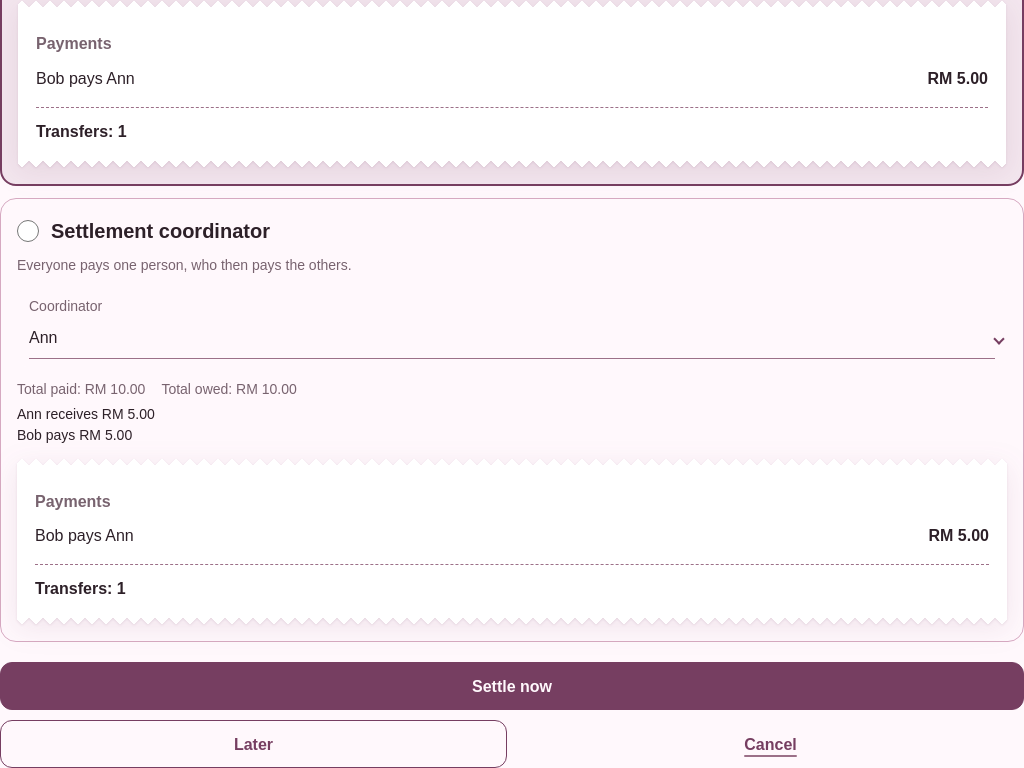
Test: SettlementRoute › preview › maps stale_revision to a message and reloads the preview
(page scrolled)
Click the button "Settle now" at (512, 686), box [0, 662, 1023, 710]
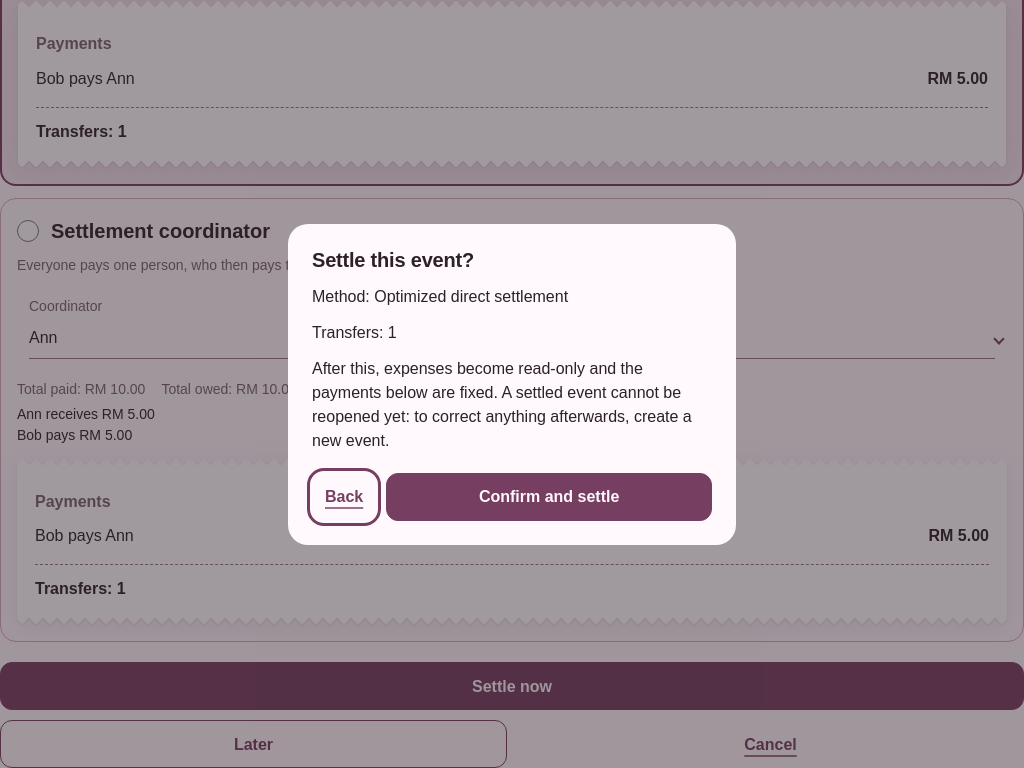
Click the button "Confirm and settle" at (549, 496), box [386, 472, 712, 520]
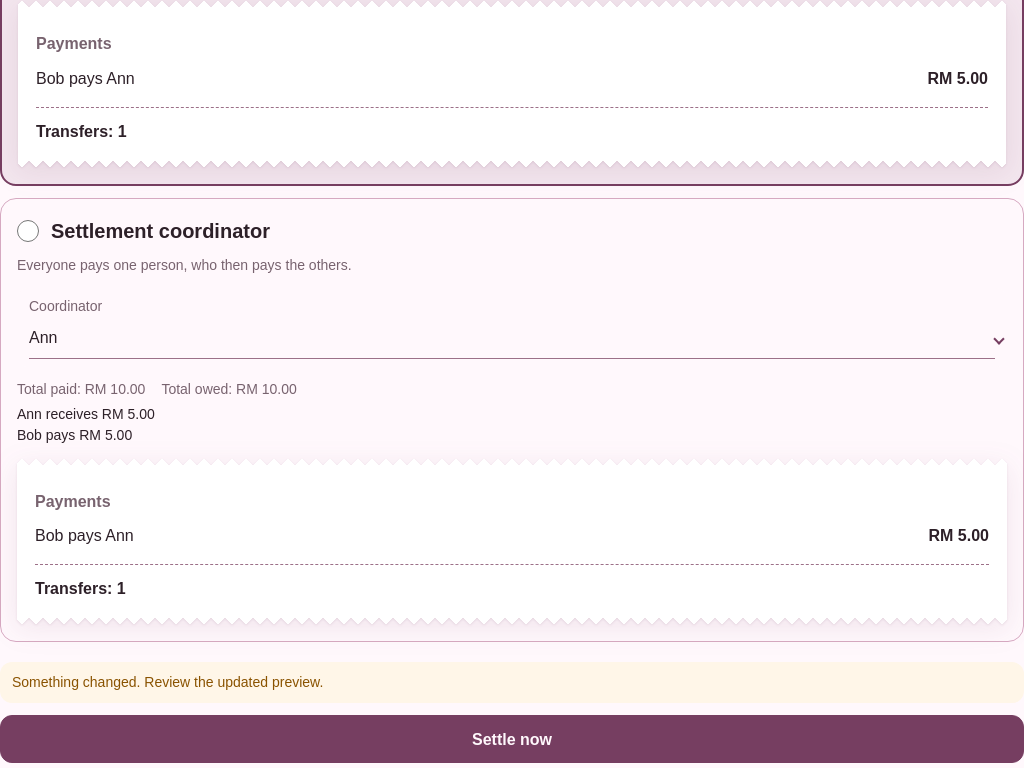
Expected: the text "Something changed. Review the updated preview." is shown, [0, 662, 1023, 704]
